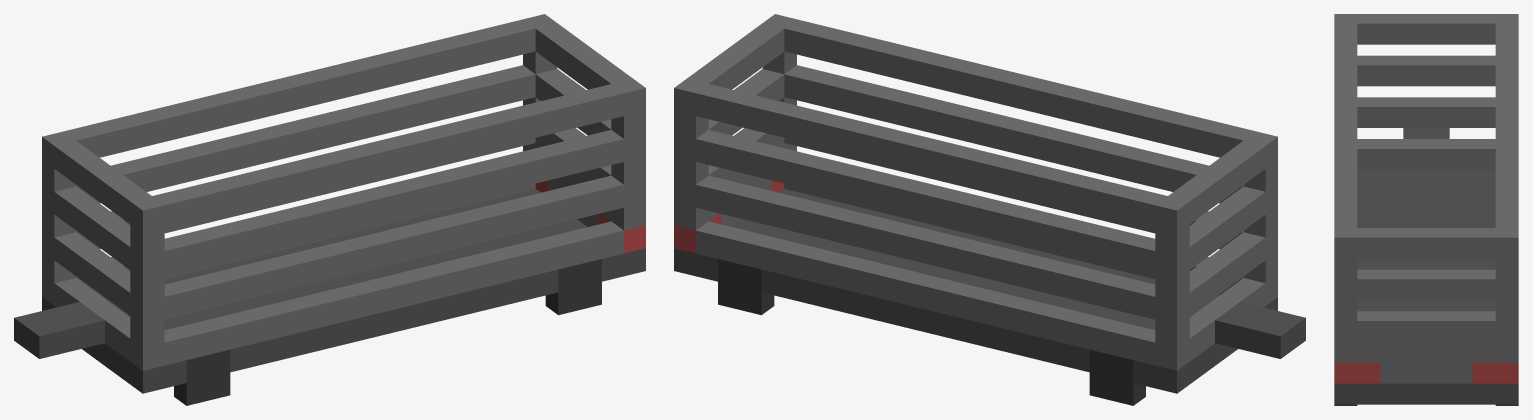
Rendered from tractor-trailer-v2-grey.gltf.
3 views of the same model, side by side, from view 1: azimuth 30°, elevation 25°; view 2: azimuth 150°, elevation 25°; view 3: azimuth 270°, elevation 25° (orthographic). The views are drawn at different scales.
Visible parts, largest first — view 1: model, wheels; view 2: model, wheels; view 3: model.
Boxes of the visible parts, bbox=[...] form: model: bbox=[14, 14, 645, 393]; wheels: bbox=[174, 259, 601, 405]; model: bbox=[674, 14, 1305, 393]; wheels: bbox=[718, 259, 1145, 405]; model: bbox=[1334, 14, 1518, 404].
Size of the model in its own units: 2.6 by 0.9 by 0.8.
Materials: 2 (2 with a texture image).
